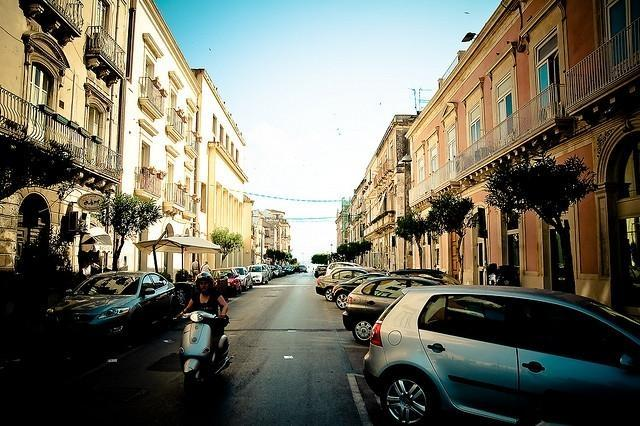car: (360, 286, 640, 419), (49, 272, 179, 342), (344, 276, 454, 346), (333, 273, 387, 310), (315, 270, 368, 302), (388, 269, 461, 285), (211, 268, 243, 297), (230, 266, 253, 290), (325, 261, 362, 274), (248, 264, 272, 284), (324, 266, 368, 276), (315, 266, 327, 278), (300, 265, 307, 272)
motorcycle: (174, 310, 233, 395)
